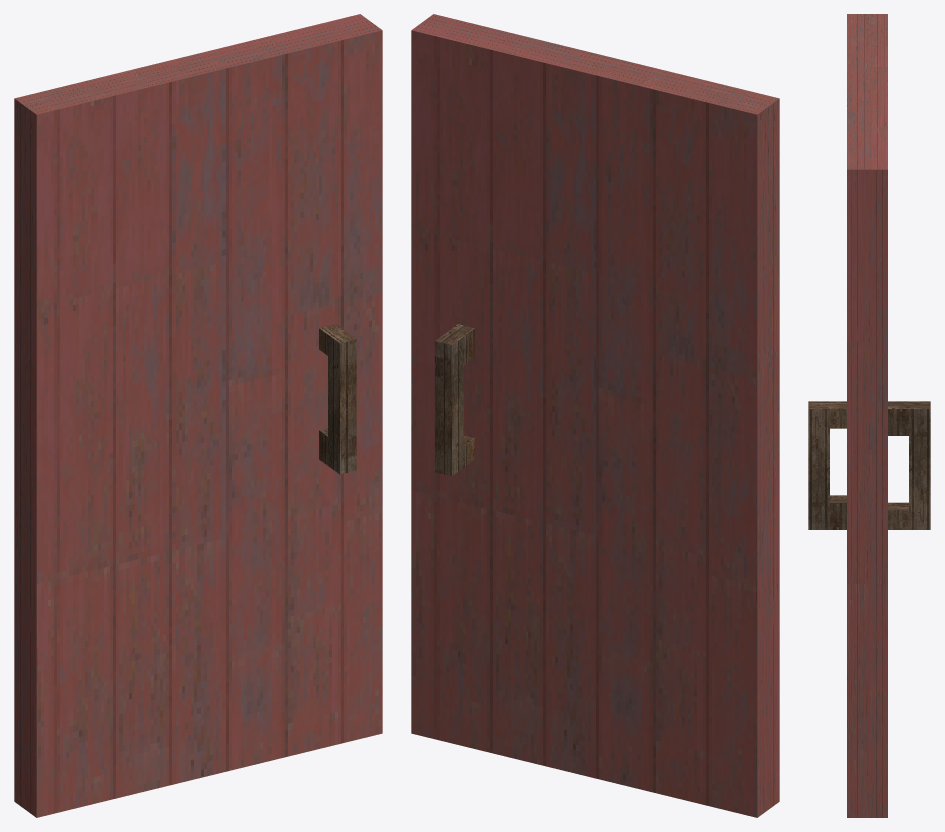
The model's file is red_door.glb.
3 views of the same model, side by side, from view 1: azimuth 30°, elevation 25°; view 2: azimuth 150°, elevation 25°; view 3: azimuth 270°, elevation 25° (orthographic). The views are drawn at different scales.
Parts seen in each view (by area): view 1: basic_door_red; view 2: basic_door_red; view 3: basic_door_red.
Boxes of the visible parts, x1,y1,x2,y2 form: basic_door_red: (14,14,382,817); basic_door_red: (411,14,779,817); basic_door_red: (808,14,930,817).
Bounding box in the file's own units: 1.19 × 2.31 × 0.3957.
1 material, 1 textured.
